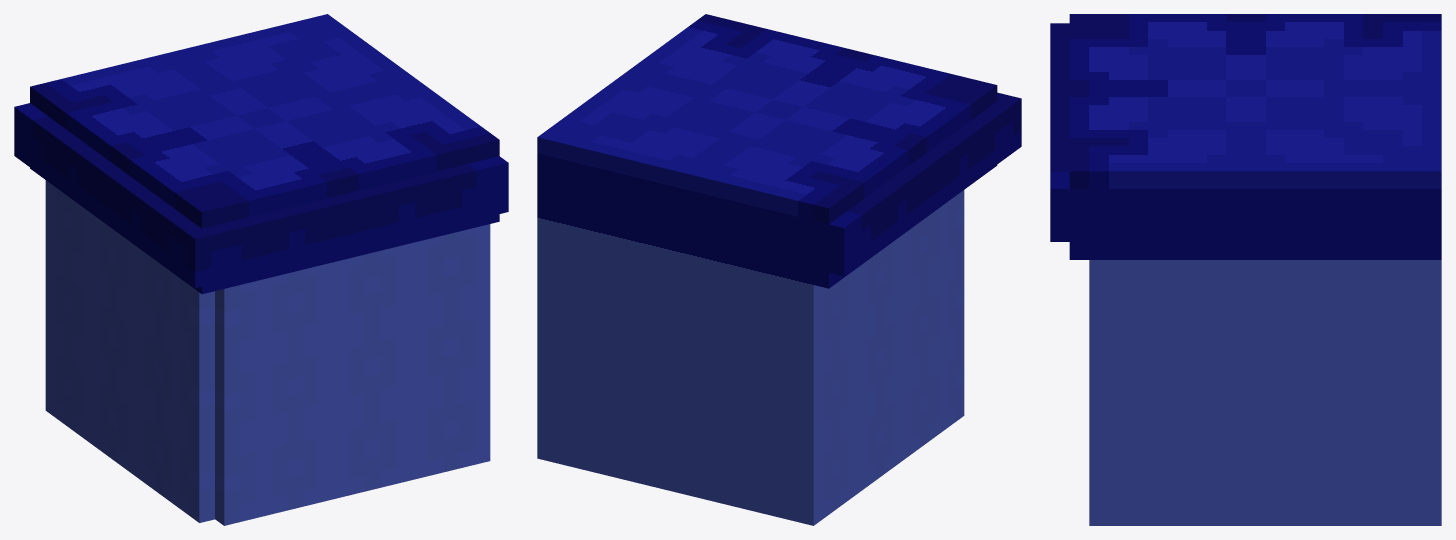
File: full_top_turn2.glb
3 renders of one model, left to right at view 1: azimuth 30°, elevation 25°; view 2: azimuth 150°, elevation 25°; view 3: azimuth 270°, elevation 25°, orthographic. The views are drawn at different scales.
Parts seen in each view (by area): view 1: full_top_turn; view 2: full_top_turn; view 3: full_top_turn.
Boxes of the visible parts, x1=… form: full_top_turn: x1=14, y1=14, x2=508, y2=525; full_top_turn: x1=537, y1=14, x2=1021, y2=525; full_top_turn: x1=1050, y1=14, x2=1441, y2=525.
Bounding box in the file's own units: 2 × 2 × 2.
Materials: 1 (1 with a texture image).
